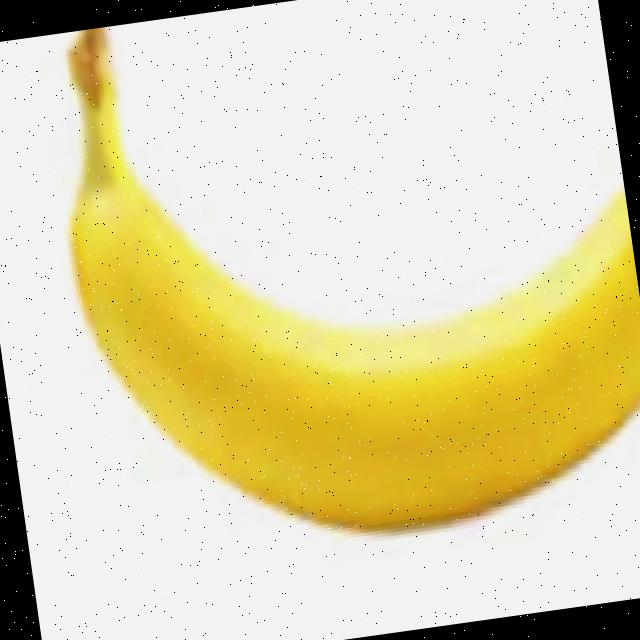Ripe: (9, 0, 640, 610)
